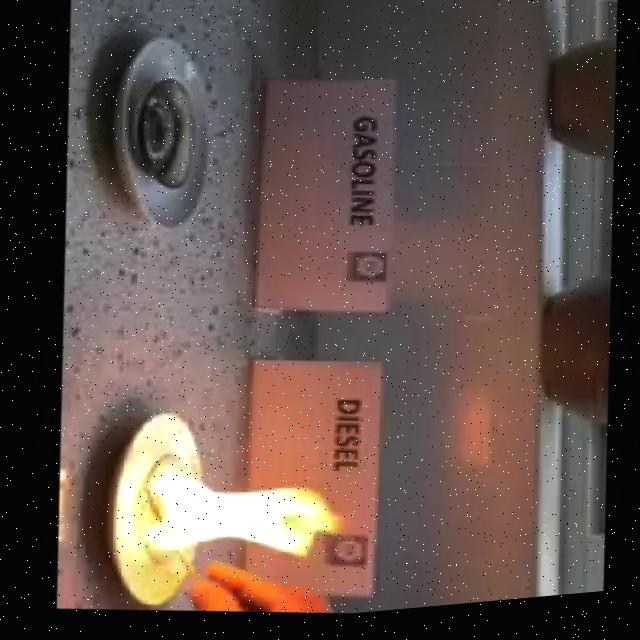Fire: (121, 447, 353, 589)
